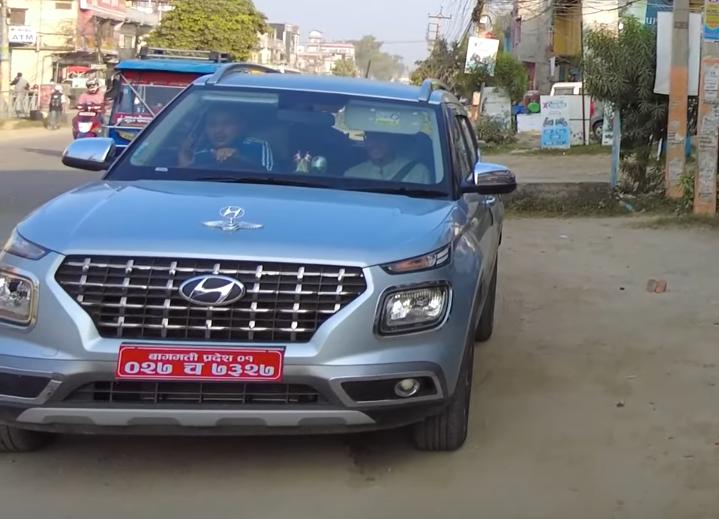car: (0, 44, 517, 466)
scooter: (65, 97, 108, 151)
